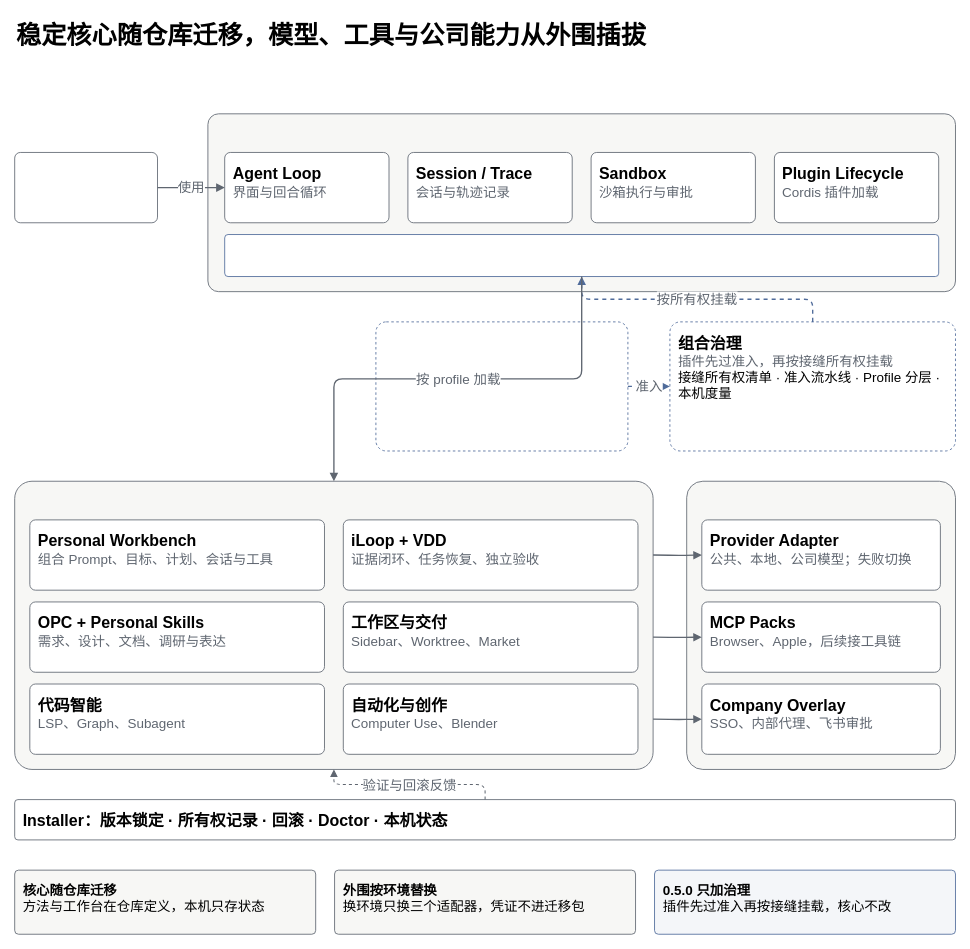
Image size: 970x949. Some labels were removed from this diagram. The box of each missing label's shape, as (x1, y1, x2, y2) in pixels:
DSH Runtime · 通用 Agent 宿主，不承载个人方法和公司账号: (207, 113, 956, 292)
Personal Harness 可迁移核心 · 仓库存定义，本机存状态: (14, 480, 653, 769)
事件接缝 ×12：组装提示 · 每步请求 · 模型流 · 工具前后 · 审批 · 回合结束: (224, 234, 939, 277)
外围适配 · 换环境只换这一层: (686, 480, 956, 769)
用户与团队 发起、审批、验收: (14, 152, 158, 223)
社区插件候选 按接缝登记，分四类 上下文与成本 · 验证与评审 · 安全与回滚 · 记忆与经验: (375, 321, 628, 451)
